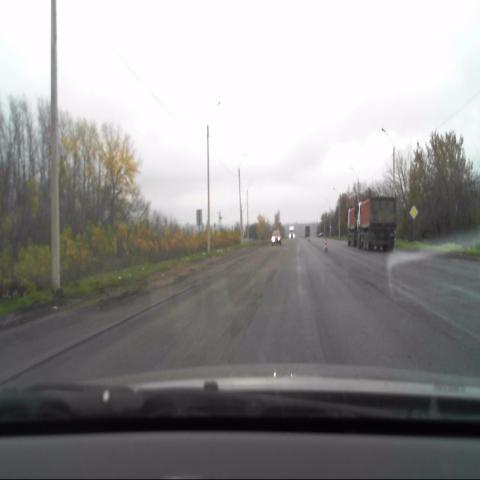2_1: (408, 206, 418, 222)
